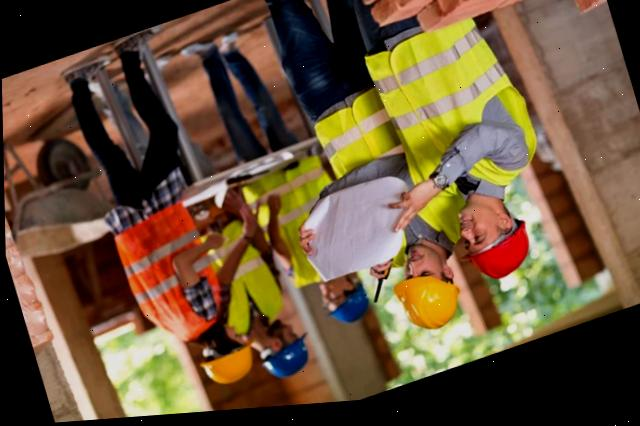helmet: (383, 267, 470, 351), (458, 226, 539, 301), (192, 344, 261, 400), (256, 334, 320, 390), (320, 288, 370, 338)
vest: (365, 6, 548, 223), (310, 68, 477, 286), (104, 187, 233, 355), (258, 151, 352, 298), (191, 208, 287, 351)
